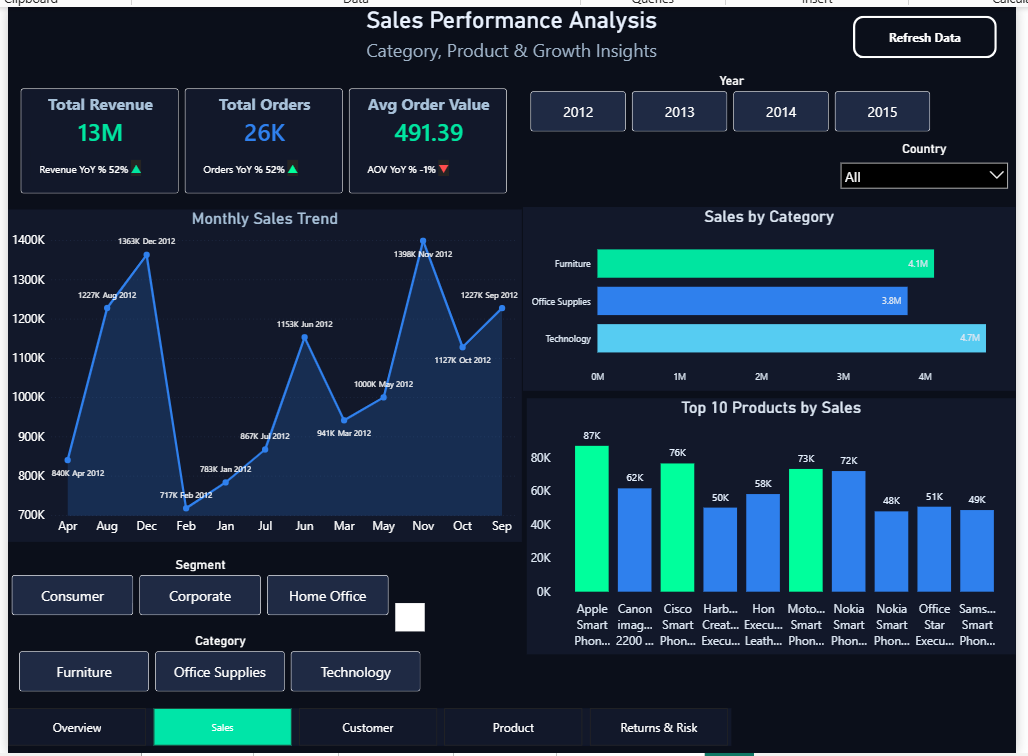

The dashboard page shown, as its layout file describes it:
{"tool":"powerbi","page":{"name":"Sales","canvas":[1350,1000],"ordinal":1},"visuals":[{"type":"textbox","title":"Sales Performance Analysis","box":[0,0,1350.5,78.8],"z":0},{"type":"cardVisual","fields":{"Data":["Orders.Total Revenue","Orders.Total Orders","Orders.Avg Order Value"]},"box":[0,92.2,688.7,175.9],"z":1000},{"type":"lineChart","title":"Monthly Sales Trend","fields":{"Y":["Orders.Total Revenue"],"Category":["Date.Month","Date.Year"]},"box":[0,271.4,688.7,445.7],"z":2000},{"type":"slicer","title":"Country","fields":{"Values":["Orders.Country"]},"box":[1105.4,179.3,244.6,77.1],"z":3000},{"type":"advancedSlicerVisual","fields":{"Values":["Date.Year"]},"box":[695.4,88.8,549.6,83.8],"z":4000},{"type":"advancedSlicerVisual","fields":{"Values":["Orders.Category"]},"box":[10.1,839.5,549.6,83.8],"z":5000},{"type":"advancedSlicerVisual","fields":{"Values":["Orders.Segment"]},"box":[0,737.3,516.1,83.8],"z":6000},{"type":"actionButton","box":[1132.7,11.7,192.7,57],"z":7000},{"type":"pageNavigator","box":[0,940.4,969.2,50],"z":8000},{"type":"clusteredBarChart","title":"Sales by Category","fields":{"Y":["Orders.Total Revenue"],"Category":["Orders.Category"]},"box":[690.4,268.1,660.2,246.3],"z":9000},{"type":"clusteredColumnChart","title":"Top 10  Products by Sales","fields":{"Y":["Orders.Total Revenue"],"Category":["Orders.Product Name"]},"box":[695.4,524.5,655.2,343.5],"z":10000}]}

Visuals, with their boxes on the page's 1350x1000 design canvas (x1, y1, x2, y2). These are canvas units, not pixel positions in the 1028x756 screenshot, which may show the page scaled, cropped or inside an application window:
"Sales Performance Analysis" textbox: <box>0,0,1350,79</box>
cardVisual - Orders.Total Revenue x Orders.Total Orders: <box>0,92,689,268</box>
"Monthly Sales Trend" lineChart: <box>0,271,689,717</box>
"Country" slicer: <box>1105,179,1350,256</box>
advancedSlicerVisual - Date.Year: <box>695,89,1245,173</box>
advancedSlicerVisual - Orders.Category: <box>10,840,560,923</box>
advancedSlicerVisual - Orders.Segment: <box>0,737,516,821</box>
actionButton: <box>1133,12,1325,69</box>
pageNavigator: <box>0,940,969,990</box>
"Sales by Category" clusteredBarChart: <box>690,268,1351,514</box>
"Top 10  Products by Sales" clusteredColumnChart: <box>695,524,1351,868</box>
